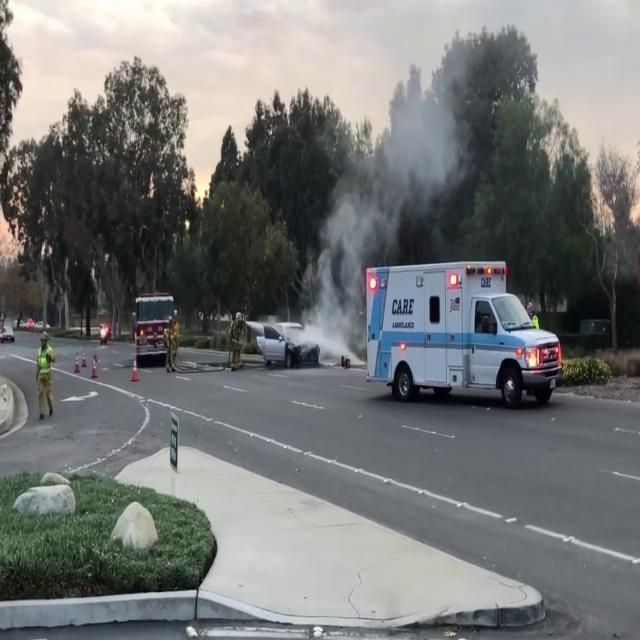Smoke: (312, 28, 472, 290), (304, 150, 406, 354)
